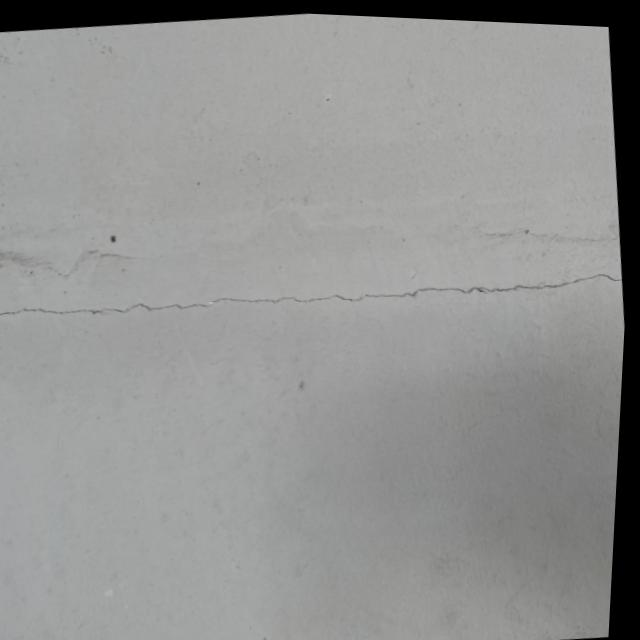Crack: (0, 221, 627, 358)
